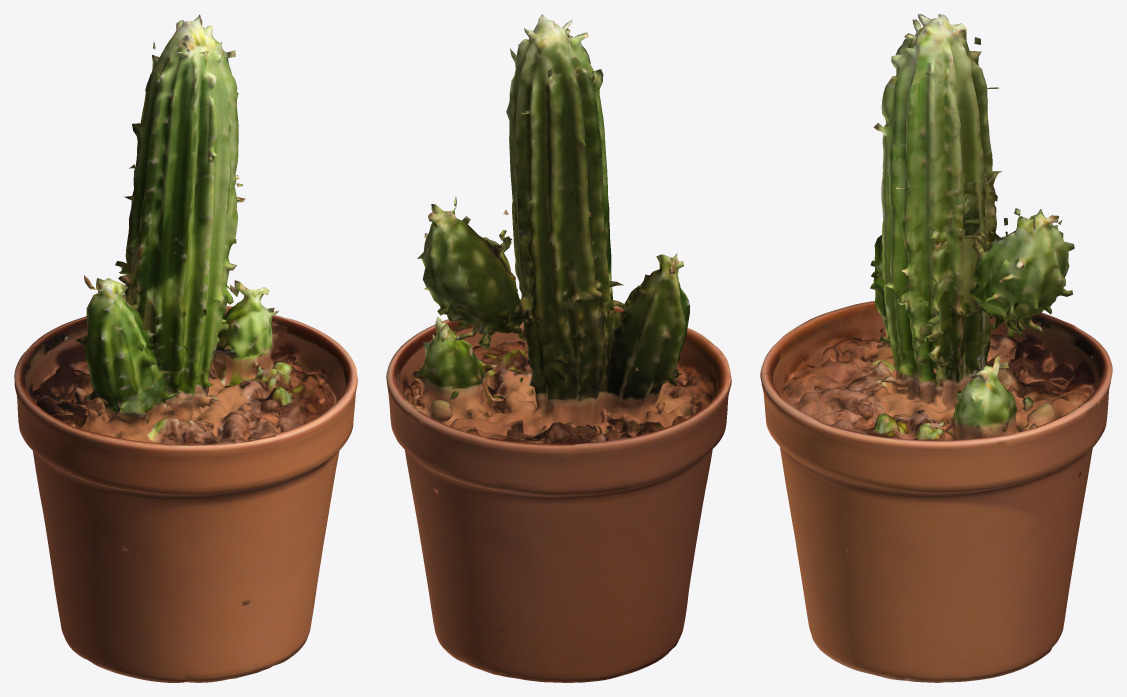
3 renders of one model, left to right at view 1: azimuth 30°, elevation 25°; view 2: azimuth 150°, elevation 25°; view 3: azimuth 270°, elevation 25°, orthographic.
Bounding box in the file's own units: 0.9931 × 1.96 × 1.
1 material, 1 textured.
